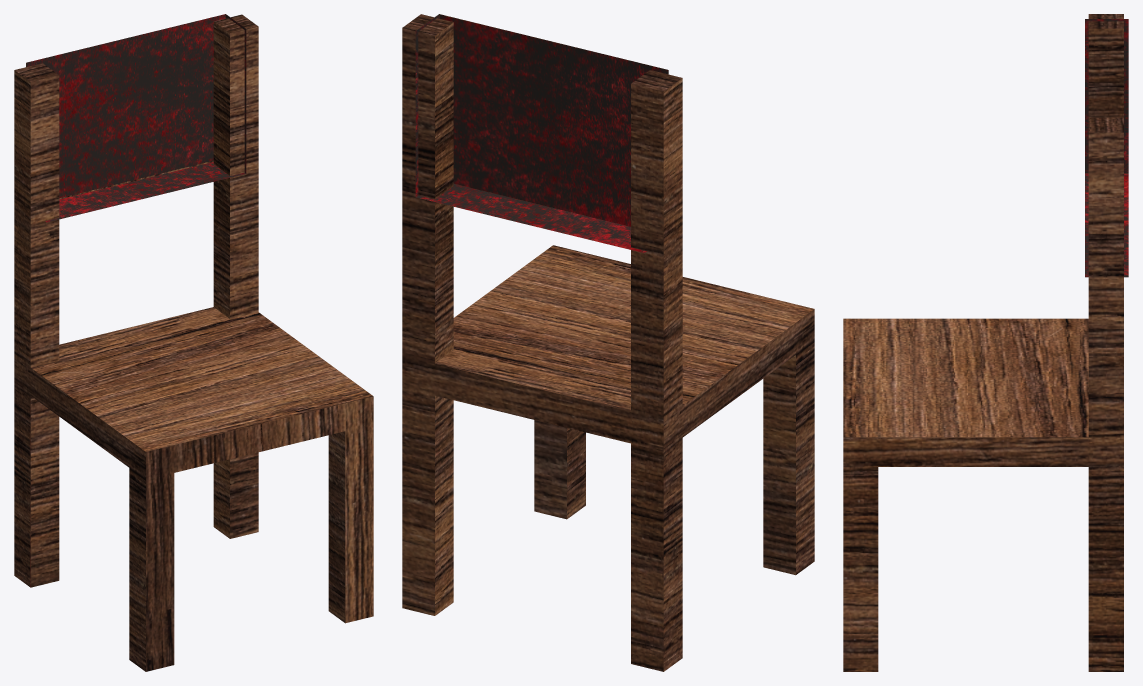
Rendered from chair.glb.
3 views of the same model, side by side, from view 1: azimuth 30°, elevation 25°; view 2: azimuth 150°, elevation 25°; view 3: azimuth 270°, elevation 25° (orthographic). The views are drawn at different scales.
Parts seen in each view (by area): view 1: Plane; view 2: Plane; view 3: Plane.
Part boxes in pixels (bbox=[...]): Plane: bbox=[14, 14, 373, 671]; Plane: bbox=[402, 14, 814, 671]; Plane: bbox=[843, 14, 1128, 671].
Bounding box in the file's own units: 1.26 × 2.68 × 1.28.
Materials: 1 (1 with a texture image).
